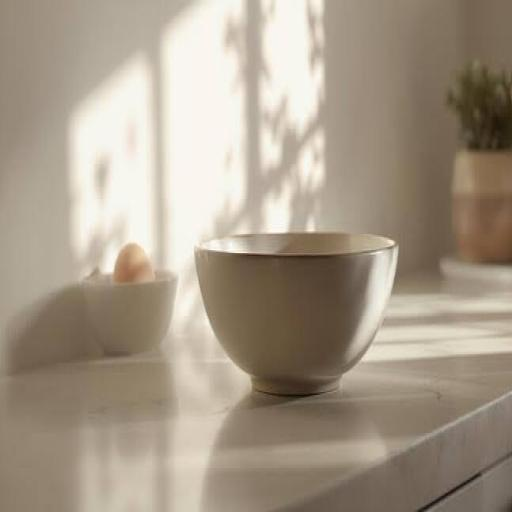Bowl: (195, 233, 398, 394), (82, 243, 177, 354)
